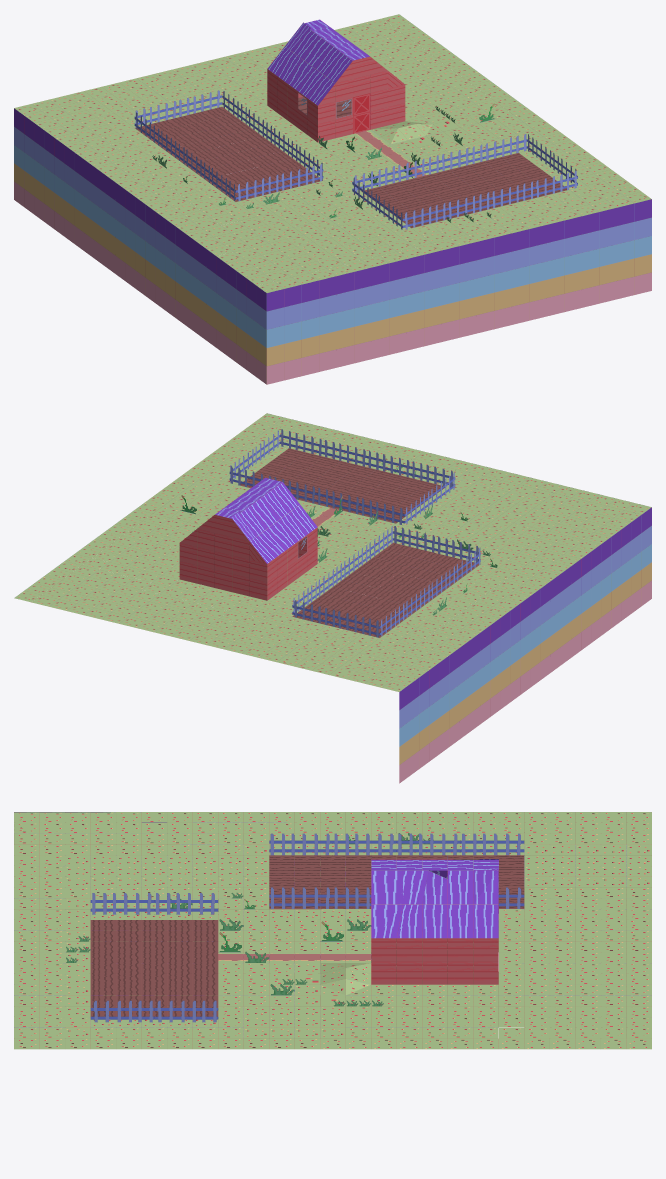
The model's file is farm-fall.obj.
The picture shows the model from 3 angles, top to bottom: view 1: azimuth 30°, elevation 25°; view 2: azimuth 150°, elevation 25°; view 3: azimuth 270°, elevation 25°; orthographic projection. The views are drawn at different scales.
Parts seen in each view (by area): view 1: Default; view 2: Default; view 3: Default.
Part boxes in pixels (x1,y1,x2,y2): Default: (14, 14, 651, 384); Default: (14, 413, 651, 783); Default: (14, 812, 651, 1049).
Size of the model in its own units: 44.01 by 18.12 by 50.01.
1 material, 1 textured.
